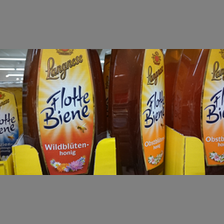honey: (25, 48, 102, 174), (110, 48, 168, 175), (179, 48, 224, 176)
